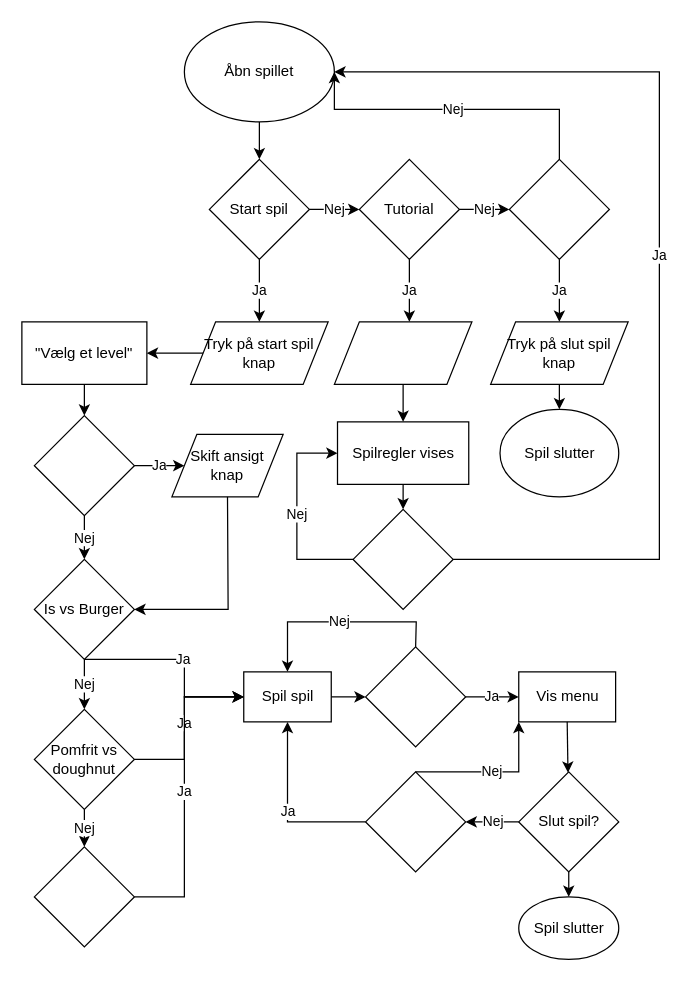
The diagram is 691 pixels wide and 981 high, and some of its shapes have lost their labels. Here are the shapes that lost their labels. From the top down, the centre of each, then its label:
pixel 558 208: Slut spil
pixel 402 352: Tryk på tutorial knap
pixel 83 465: Skift ansigt?
pixel 402 558: Gå tilbage?
pixel 415 696: Tryk på menuknap
pixel 415 821: Spil videre?
pixel 83 896: Banan vs popcorn
